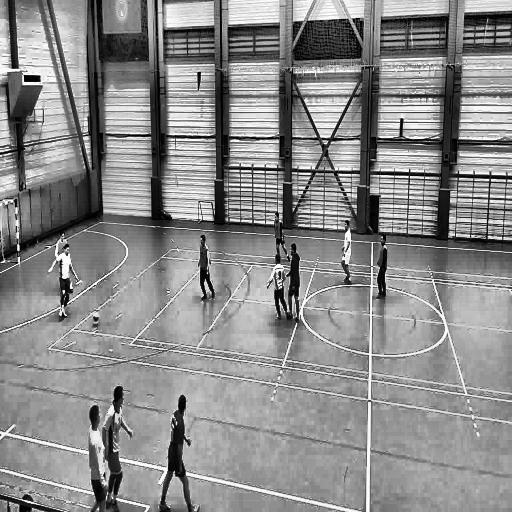ball: (92, 310, 100, 323)
player: (266, 253, 290, 322), (285, 243, 301, 325)
